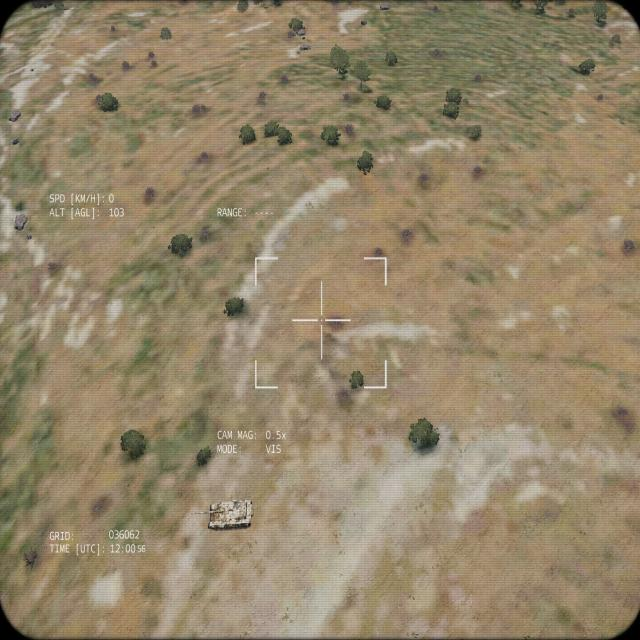tank: (189, 496, 253, 530)
